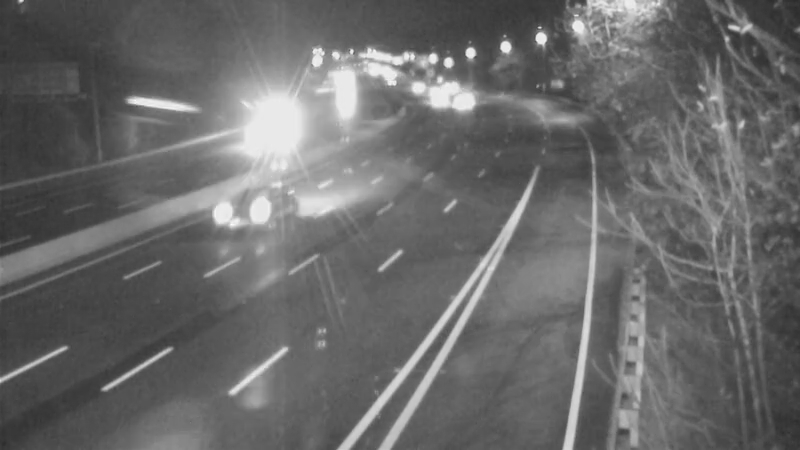vehicle: (201, 163, 281, 243), (369, 58, 419, 108), (391, 61, 441, 111), (413, 76, 463, 126), (437, 79, 487, 129), (251, 100, 301, 150)
